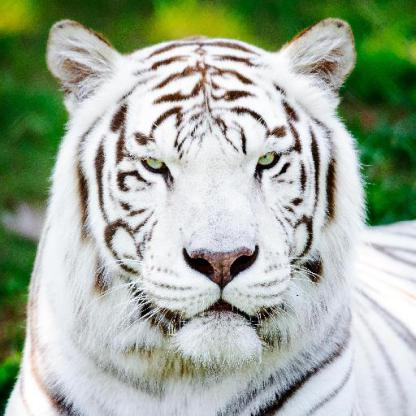tiger: (69, 21, 358, 350)
